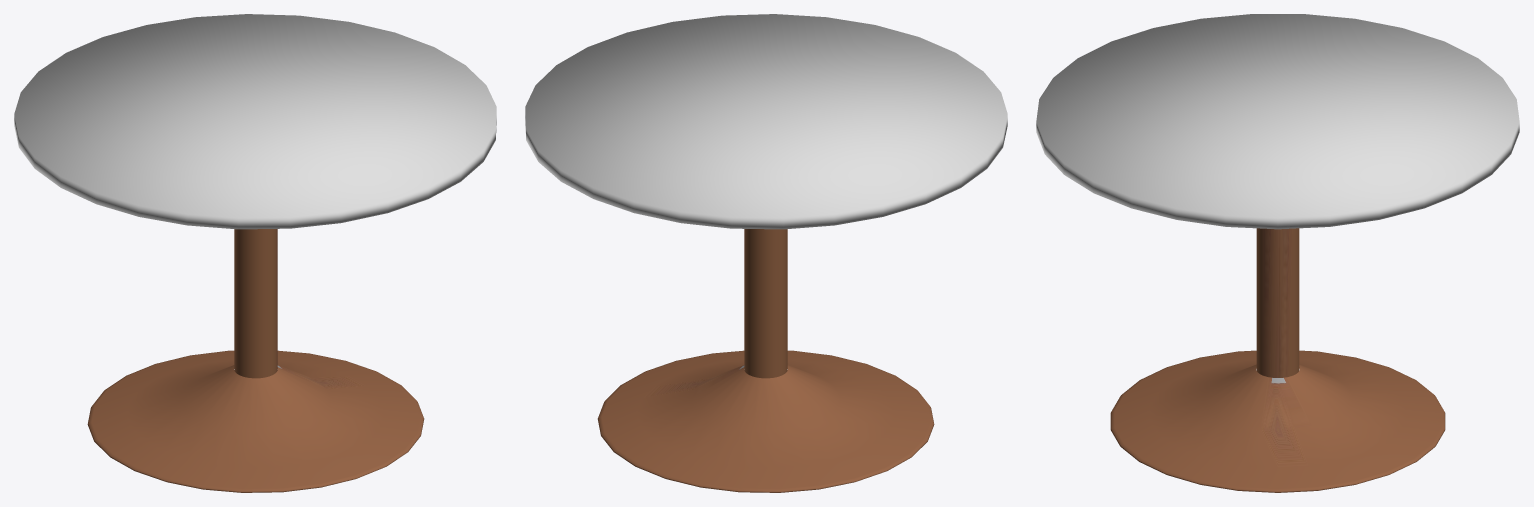
Rendered from Table.glb.
The picture shows the model from 3 angles, left to right: view 1: azimuth 30°, elevation 25°; view 2: azimuth 150°, elevation 25°; view 3: azimuth 270°, elevation 25°; orthographic projection.
Visible parts, largest first — view 1: Table; view 2: Table; view 3: Table.
Part boxes in pixels (box(x1,y1,x2,y2)): Table: box(14, 14, 496, 492); Table: box(525, 14, 1007, 492); Table: box(1036, 14, 1519, 492).
Size of the model in its own units: 0.9971 by 0.7 by 0.9985.
2 materials, 1 textured.
